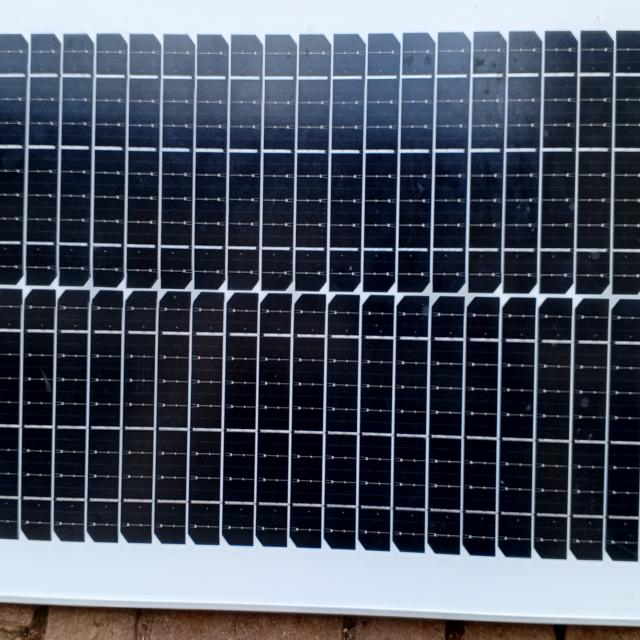Clean: (1, 4, 640, 578)
